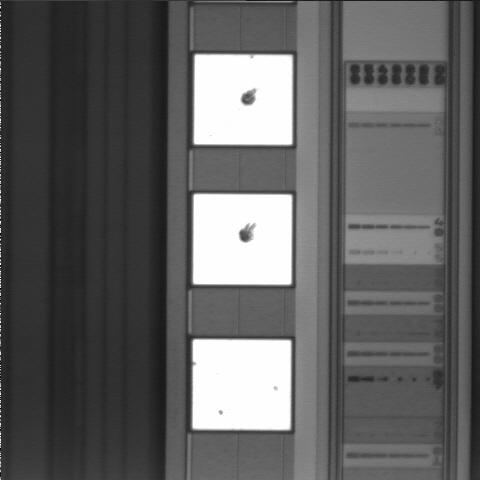pad: (193, 194, 292, 285), (193, 339, 291, 430), (194, 55, 292, 145)
